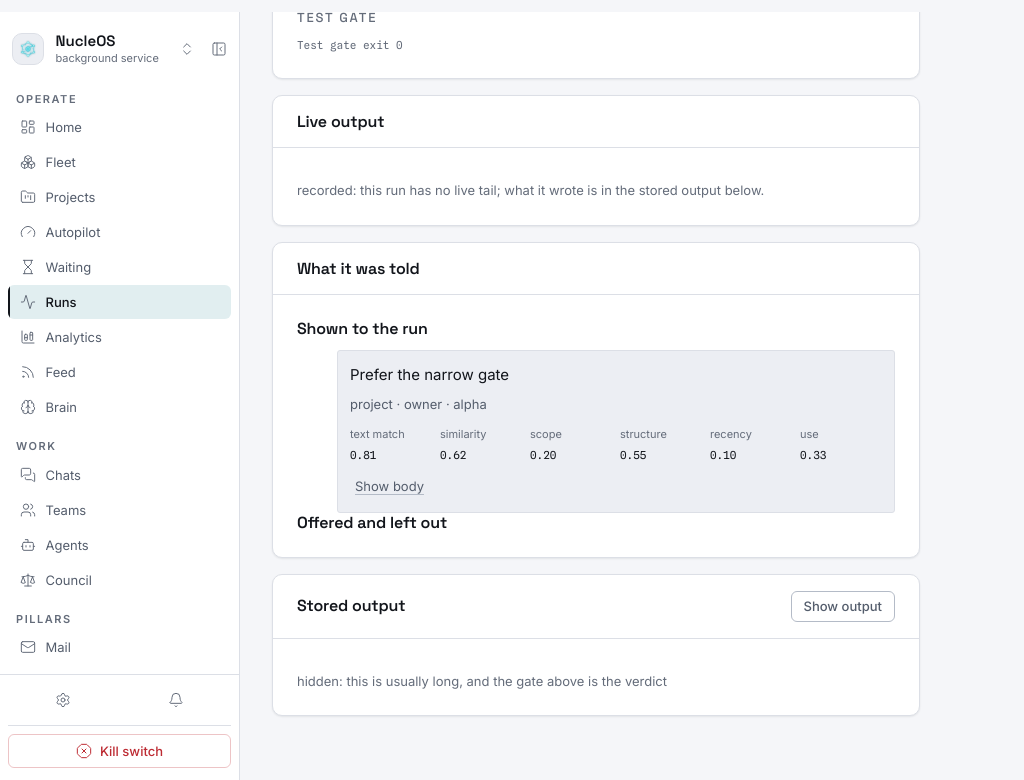
Test: RunDetail — what it was told › a body opens only when asked
This screenshot has width=1024, height=780.
(page scrolled)
Expected: the text "Run only the tests selected for this change." is not shown
Click the button "Show body" at (390, 486), box [350,472,429,500]
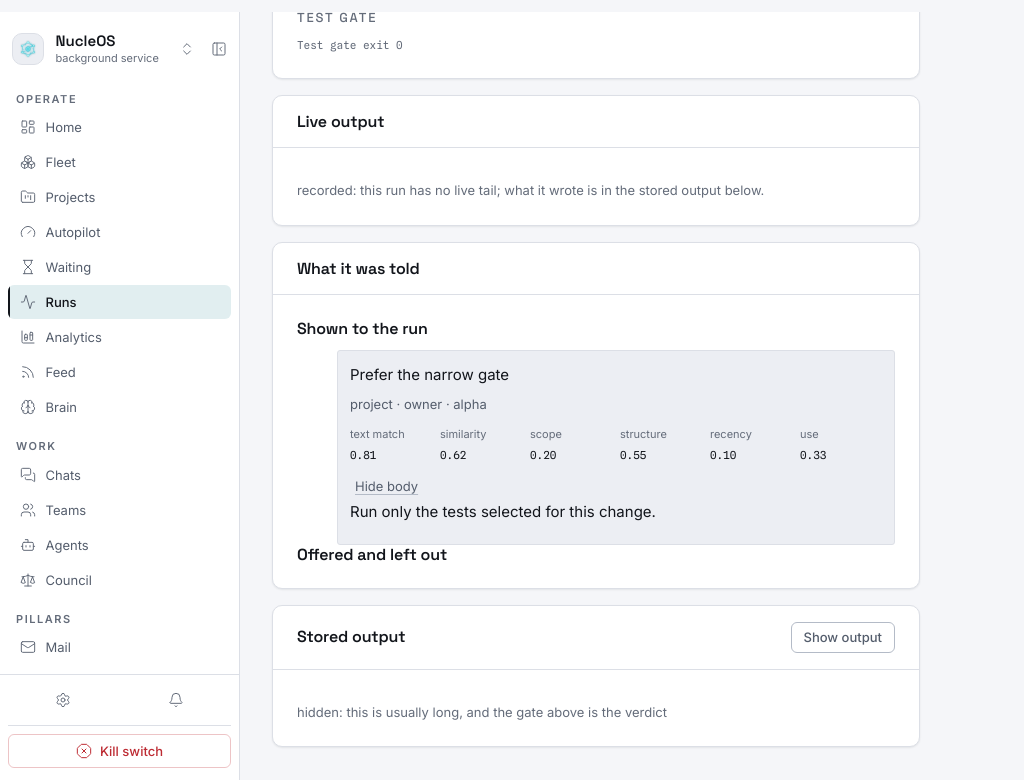
Expected: the text "Run only the tests selected for this change." is shown, [350,502,656,521]
Expected: the button named "Show body" is expanded, [350,472,423,500]
